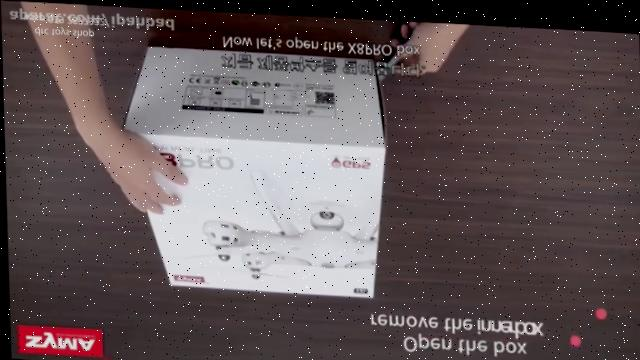drone: (189, 171, 381, 282)
